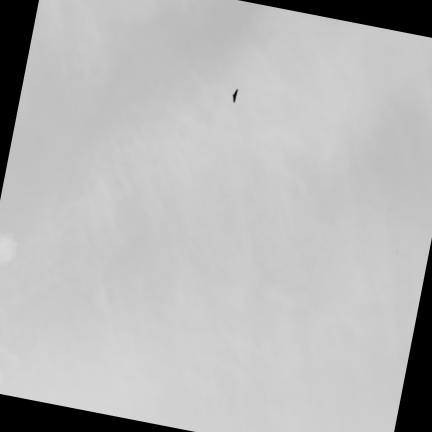Shahed: (232, 89, 237, 102)
